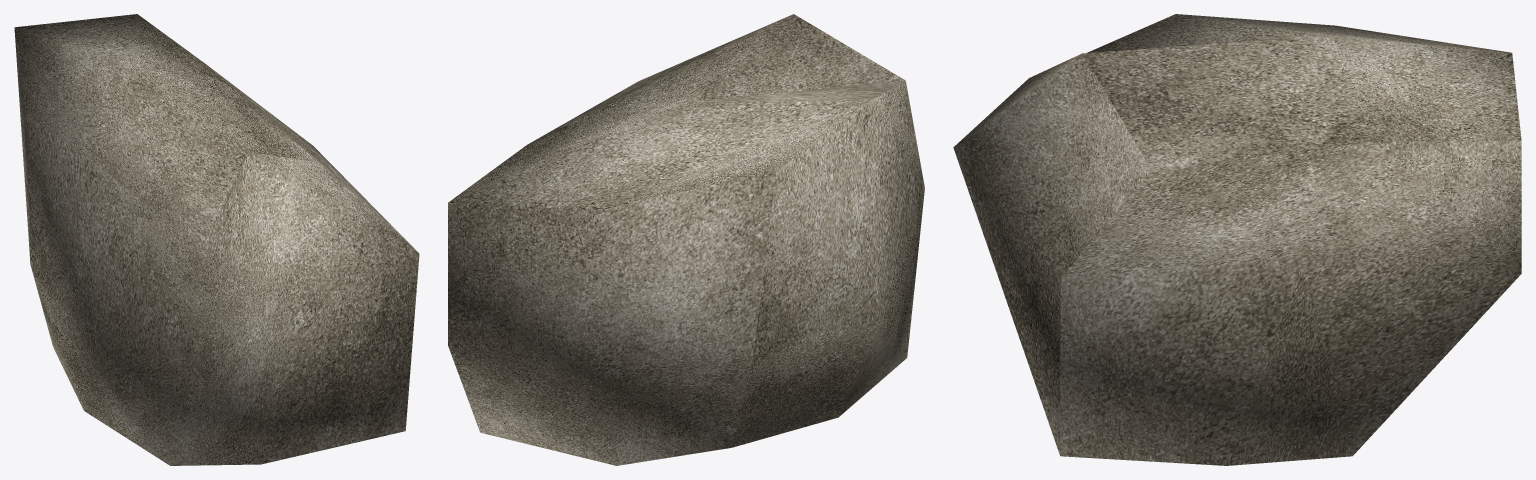
The model's file is simplerock.fbx.
3 views of the same model, side by side, from view 1: azimuth 30°, elevation 25°; view 2: azimuth 150°, elevation 25°; view 3: azimuth 270°, elevation 25° (orthographic). The views are drawn at different scales.
Visible parts, largest first — view 1: Cube; view 2: Cube; view 3: Cube.
Boxes of the visible parts, x1,y1,x2,y2 form: Cube: (14, 14, 419, 465); Cube: (448, 14, 924, 465); Cube: (953, 14, 1521, 465).
Size of the model in its own units: 237 by 274 by 389.
